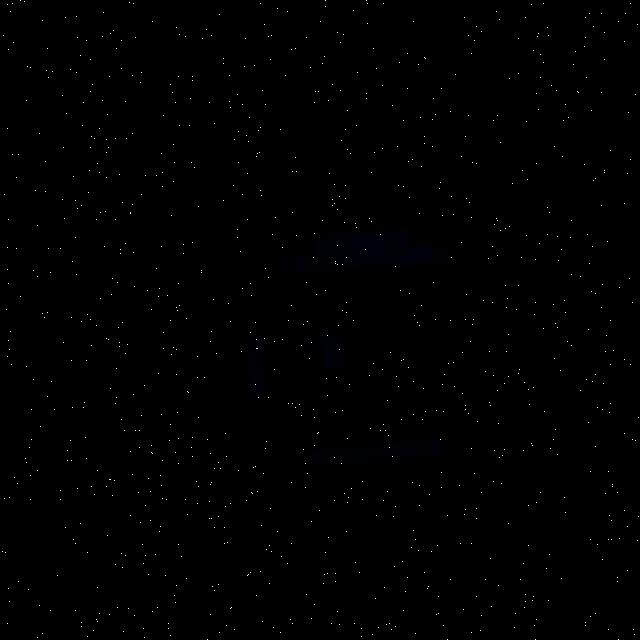Ograniczenie predkosci do 120: (176, 153, 545, 543)
